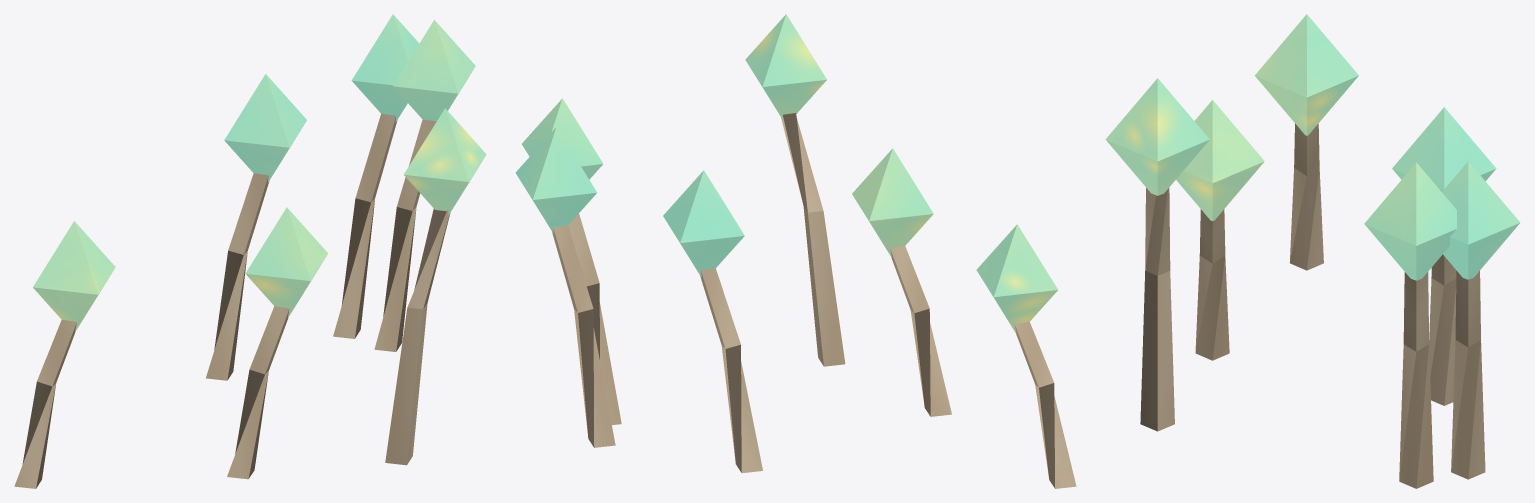
File: glow_sprouts.glb
The picture shows the model from 3 angles, left to right: view 1: azimuth 30°, elevation 25°; view 2: azimuth 150°, elevation 25°; view 3: azimuth 270°, elevation 25°; orthographic projection. The views are drawn at different scales.
Visible parts, largest first — view 1: glow_sprouts__glow, glow_sprouts__stem; view 2: glow_sprouts__glow, glow_sprouts__stem; view 3: glow_sprouts__glow, glow_sprouts__stem.
Boxes of the visible parts, x1,y1,x2,y2 form: glow_sprouts__glow: (33,14,486,331); glow_sprouts__stem: (14,113,450,488); glow_sprouts__glow: (515,14,1057,333); glow_sprouts__stem: (552,113,1076,488); glow_sprouts__glow: (1105,14,1520,280); glow_sprouts__stem: (1140,123,1485,488).
Size of the model in its own units: 1.11 by 0.7045 by 0.7147.
2 materials, 2 textured.
